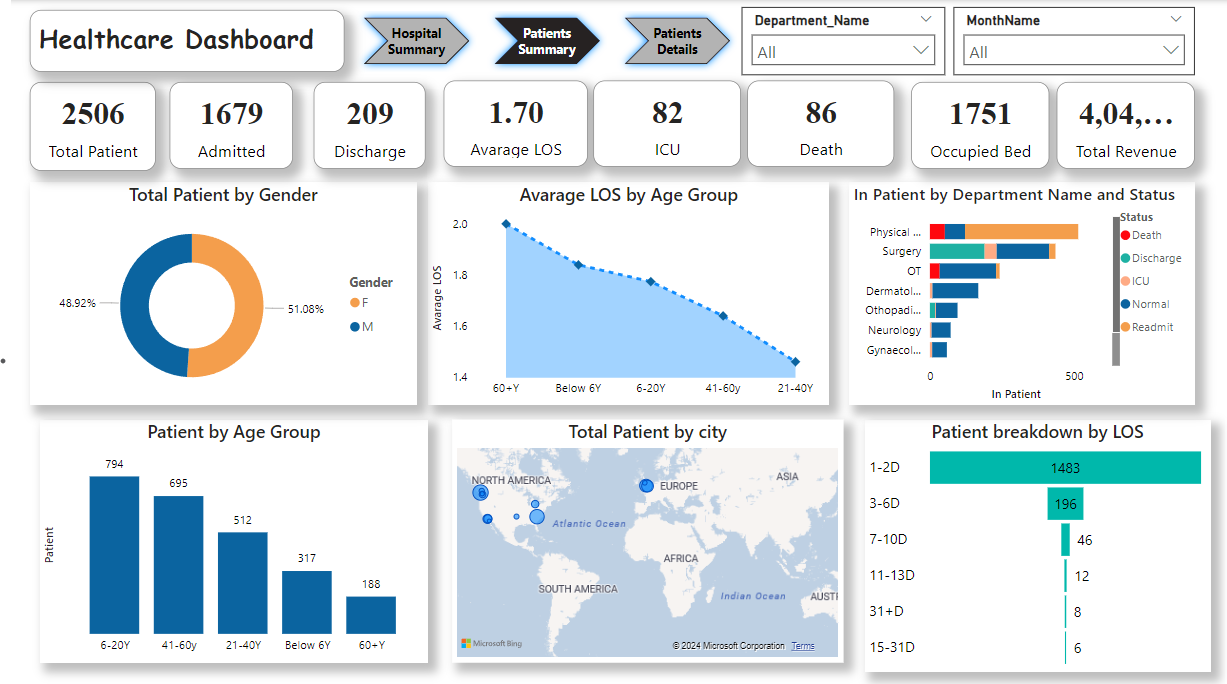

The dashboard page shown, as its layout file describes it:
{"tool":"powerbi","page":{"name":"Patients Summary ","canvas":[1280,720],"ordinal":1},"visuals":[{"type":"cardVisual","fields":{"Data":["Measure.Total Patient"]},"box":[21.2,86.2,132.5,93.8],"z":0},{"type":"textbox","box":[20.8,10.4,331,65.3],"z":1000},{"type":"slicer","fields":{"Values":["Department.Department_Name"]},"box":[768.8,7.4,213.7,71.2],"z":2000},{"type":"slicer","fields":{"Values":["Calendar_date.MonthName"]},"box":[991.4,7.4,253.8,71.2],"z":3000},{"type":"cardVisual","fields":{"Data":["Measure.In Patient"]},"box":[167.5,85.6,129.6,91.7],"z":4000},{"type":"cardVisual","fields":{"Data":["Measure.Total Discharge"]},"box":[319,86.8,117.4,91.7],"z":5000},{"type":"cardVisual","fields":{"Data":["Measure.Avarage LOS"]},"box":[456,84.3,151.6,90.5],"z":6000},{"type":"cardVisual","fields":{"Data":["Measure.ICU"]},"box":[613.7,84.3,155.2,90.5],"z":7000},{"type":"cardVisual","fields":{"Data":["Measure.Death"]},"box":[775,84.3,154,90.5],"z":8000},{"type":"cardVisual","fields":{"Data":["Measure.Occupied Bed"]},"box":[947.4,86.8,145.5,91.7],"z":9000},{"type":"cardVisual","fields":{"Data":["Measure.Total Revenue"]},"box":[1100.2,86.8,145.5,91.7],"z":10000},{"type":"donutChart","fields":{"Category":["Detail data dataset.Gender"],"Y":["Measure.Total Patient"]},"box":[20.8,191.4,406.6,234.5],"z":11000},{"type":"columnChart","fields":{"Y":["Measure.Total Patient"],"Category":["Detail data dataset.Age Bucket"]},"box":[31.2,440.8,408.1,255.3],"z":12000},{"type":"areaChart","fields":{"Y":["Measure.Avarage LOS"],"Category":["Detail data dataset.Age Bucket"]},"box":[439.3,191.4,421.5,234.5],"z":13000},{"type":"barChart","fields":{"Category":["Department.Department_Name"],"Y":["Measure.In Patient"],"Series":["Detail data dataset.Status"]},"box":[881.6,191.4,363.6,234.5],"z":14000},{"type":"funnel","title":"Patient breakdown by LOS","fields":{"Y":["Measure.Total Patient"],"Category":["Detail data dataset.Custom"]},"box":[897.9,440.8,363.6,265.7],"z":15000},{"type":"pageNavigator","box":[363.6,10.4,402.2,65.3],"z":16000},{"type":"map","title":"Total Patient by city","fields":{"Category":["Detail data dataset.City"],"Size":["Measure.Total Patient"]},"box":[464.5,440.8,411.1,255.3],"z":17000}]}

Visuals, with their boxes in screenshot pixels (x1, y1, x2, y2), scaled from the page's 1280x720 canvas onto the 1227x684 screenshot:
cardVisual - Measure.Total Patient: rect(20, 82, 147, 171)
textbox: rect(20, 10, 337, 72)
slicer - Department.Department_Name: rect(737, 7, 942, 75)
slicer - Calendar_date.MonthName: rect(950, 7, 1194, 75)
cardVisual - Measure.In Patient: rect(161, 81, 285, 168)
cardVisual - Measure.Total Discharge: rect(306, 82, 418, 170)
cardVisual - Measure.Avarage LOS: rect(437, 80, 582, 166)
cardVisual - Measure.ICU: rect(588, 80, 737, 166)
cardVisual - Measure.Death: rect(743, 80, 891, 166)
cardVisual - Measure.Occupied Bed: rect(908, 82, 1048, 170)
cardVisual - Measure.Total Revenue: rect(1055, 82, 1194, 170)
donutChart - Detail data dataset.Gender x Measure.Total Patient: rect(20, 182, 410, 405)
columnChart - Measure.Total Patient x Detail data dataset.Age Bucket: rect(30, 419, 421, 661)
areaChart - Measure.Avarage LOS x Detail data dataset.Age Bucket: rect(421, 182, 825, 405)
barChart - Department.Department_Name x Measure.In Patient: rect(845, 182, 1194, 405)
"Patient breakdown by LOS" funnel: rect(861, 419, 1209, 671)
pageNavigator: rect(349, 10, 734, 72)
"Total Patient by city" map: rect(445, 419, 839, 661)
